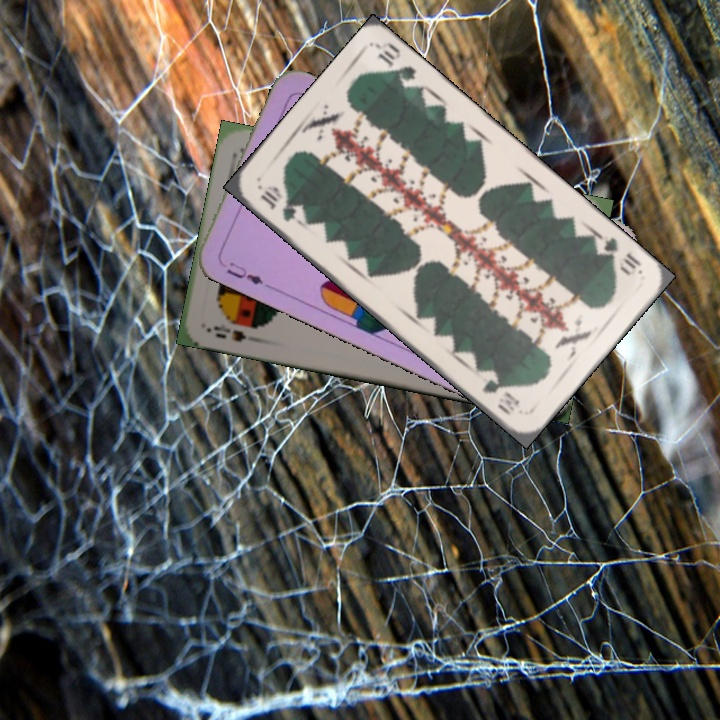EU: (217, 257, 266, 288)
G10: (591, 233, 645, 279), (256, 181, 299, 224)
SO: (209, 320, 249, 345)
